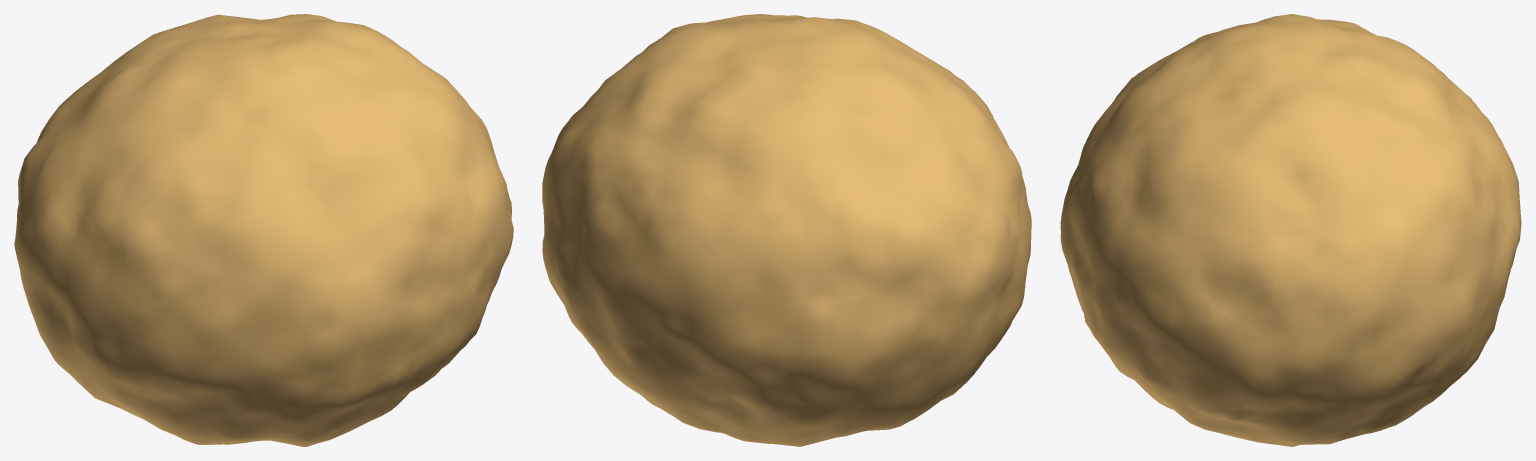
File: papa_rellena.glb
The picture shows the model from 3 angles, left to right: view 1: azimuth 30°, elevation 25°; view 2: azimuth 150°, elevation 25°; view 3: azimuth 270°, elevation 25°; orthographic projection. The views are drawn at different scales.
Parts seen in each view (by area): view 1: papa_rellena; view 2: papa_rellena; view 3: papa_rellena.
Part boxes in pixels (x1,y1,x2,y2): papa_rellena: (14,14,513,446); papa_rellena: (542,14,1031,446); papa_rellena: (1060,14,1521,446).
Bounding box in the file's own units: 0.1212 × 0.1009 × 0.1117.
